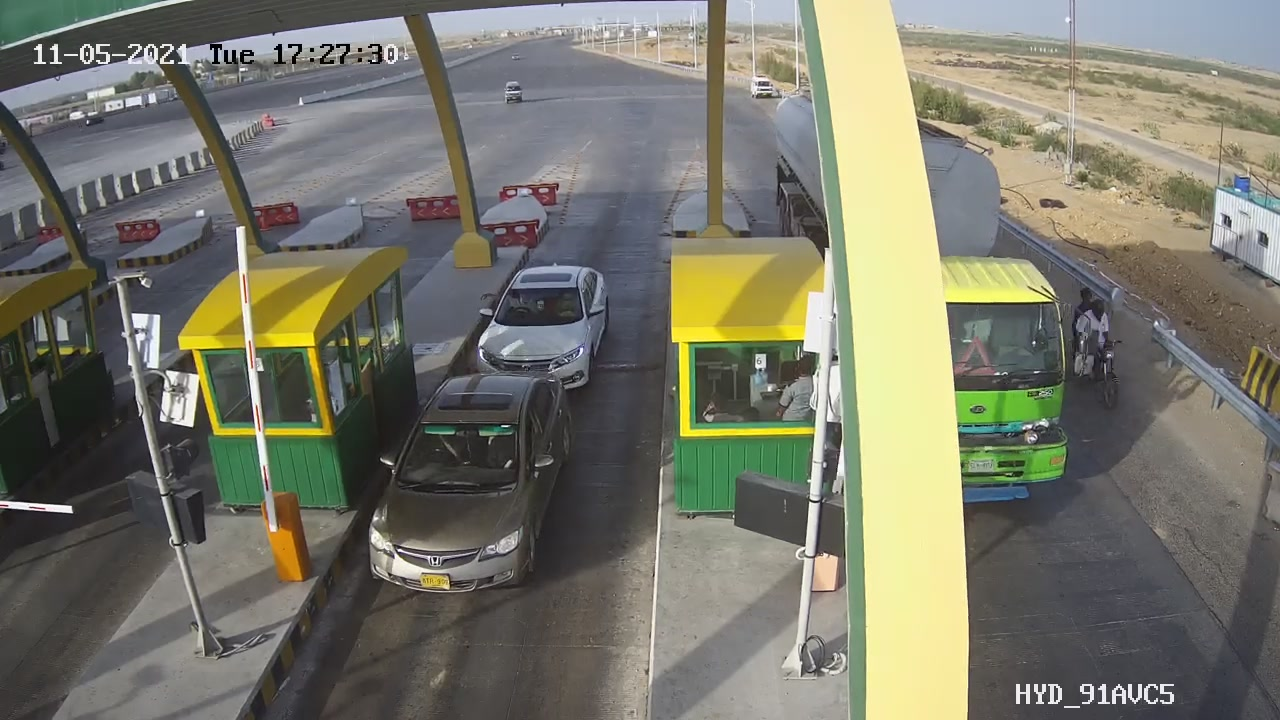F1: (351, 357, 585, 612), (457, 249, 624, 411)
